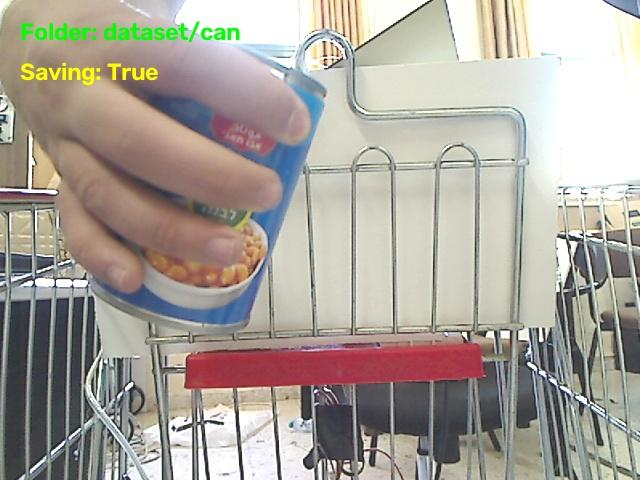can: (92, 59, 325, 332)
